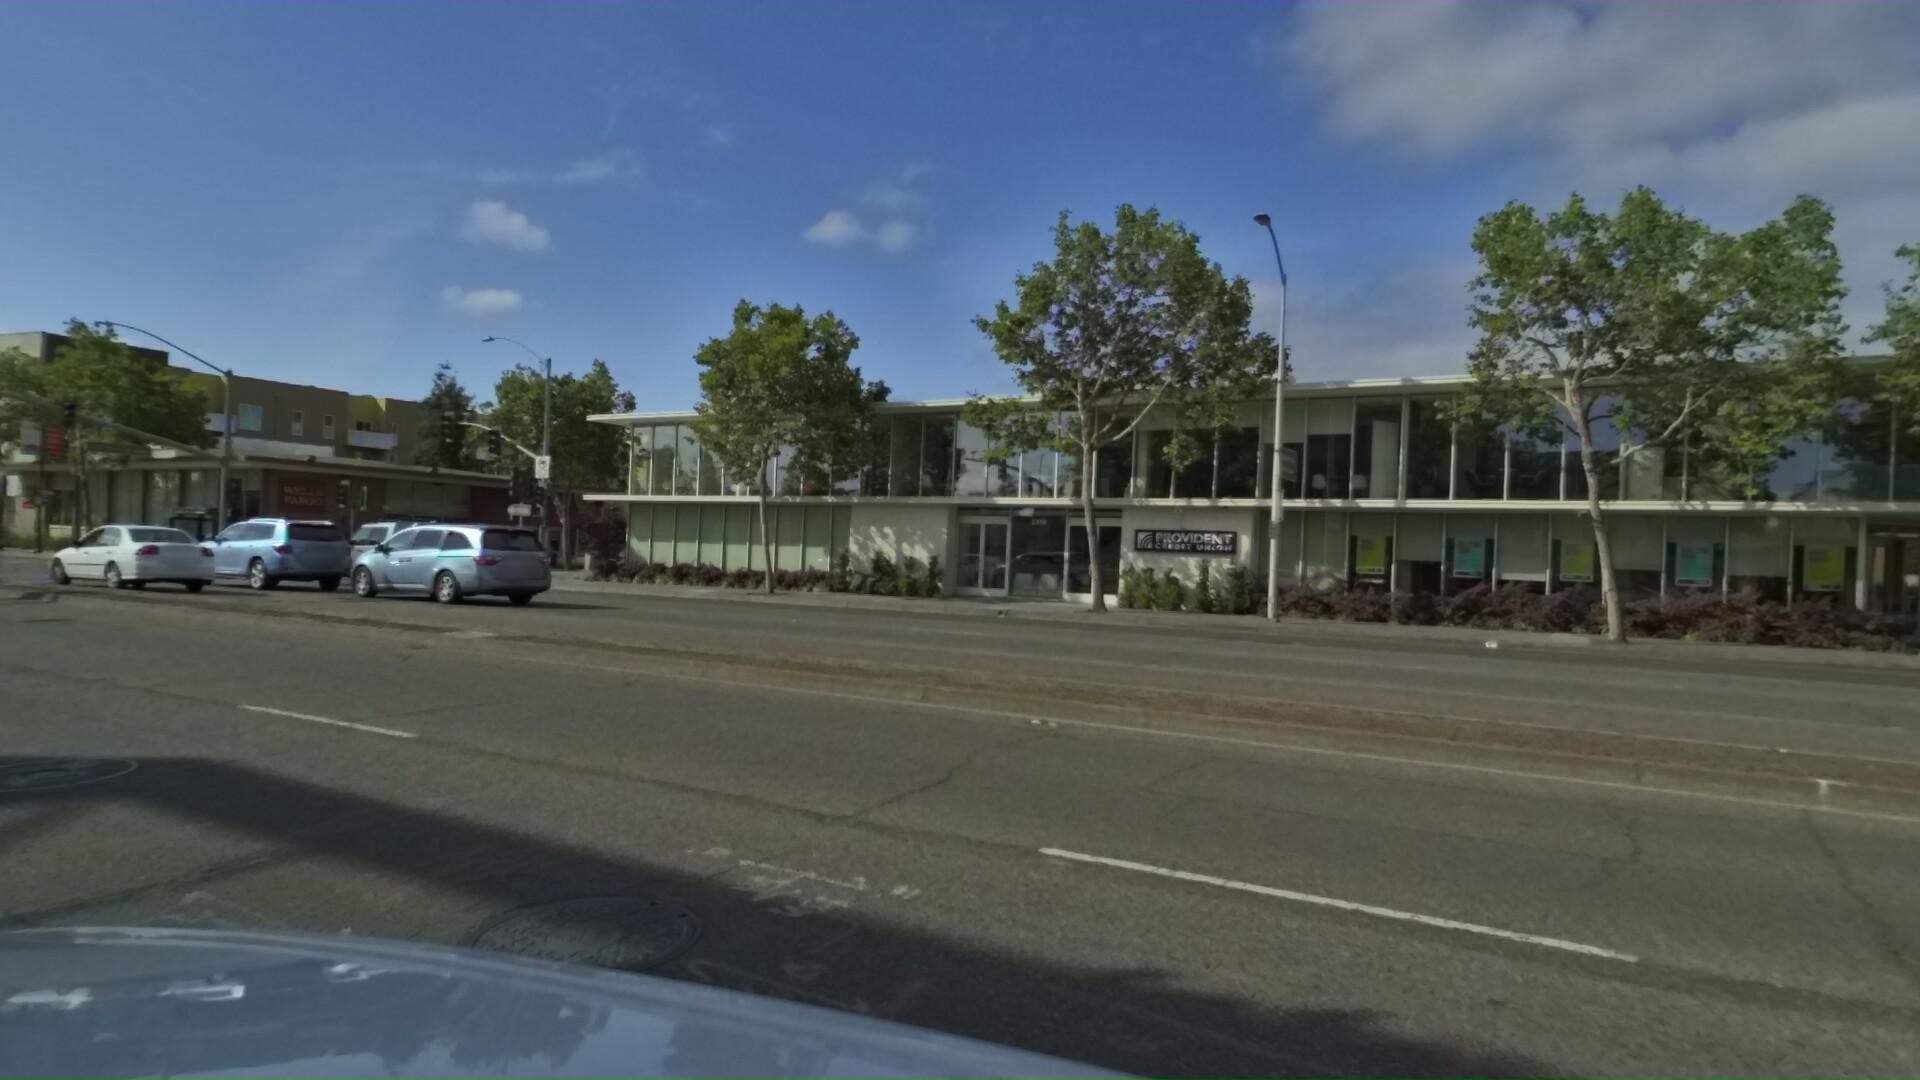car: (324, 521, 563, 618), (164, 514, 364, 603), (24, 524, 233, 605), (309, 517, 469, 603)
